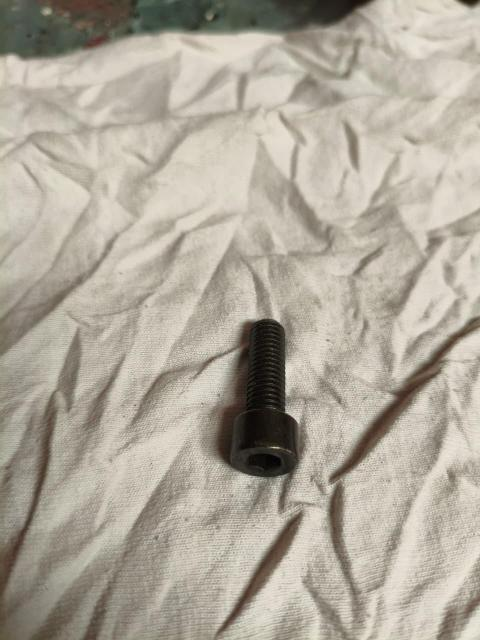Metal: (235, 318, 298, 482)
